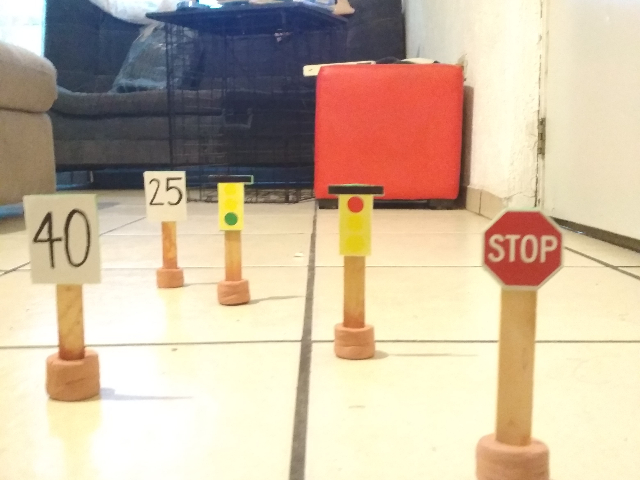Green: (207, 172, 255, 235)
Limit 25: (140, 168, 189, 222)
Limit 40: (21, 192, 103, 286)
Red: (325, 182, 386, 259)
Stop: (479, 203, 565, 290)
